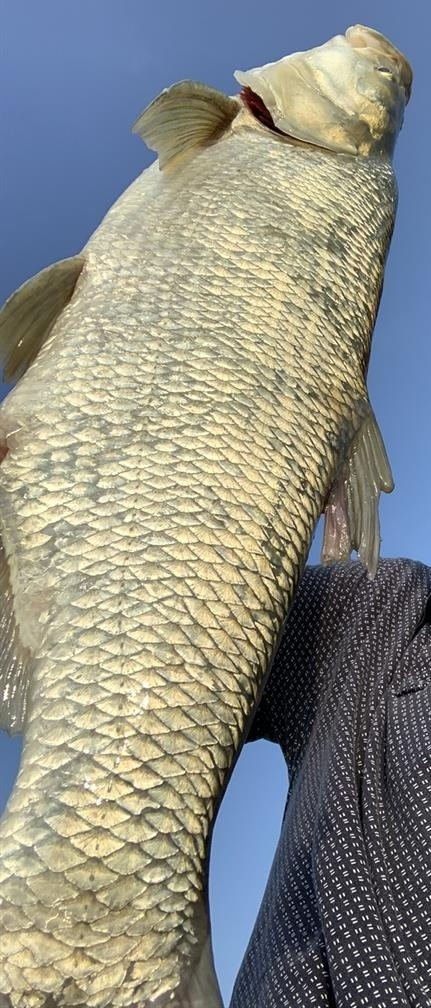Aspius aspius: (0, 20, 411, 1007)
